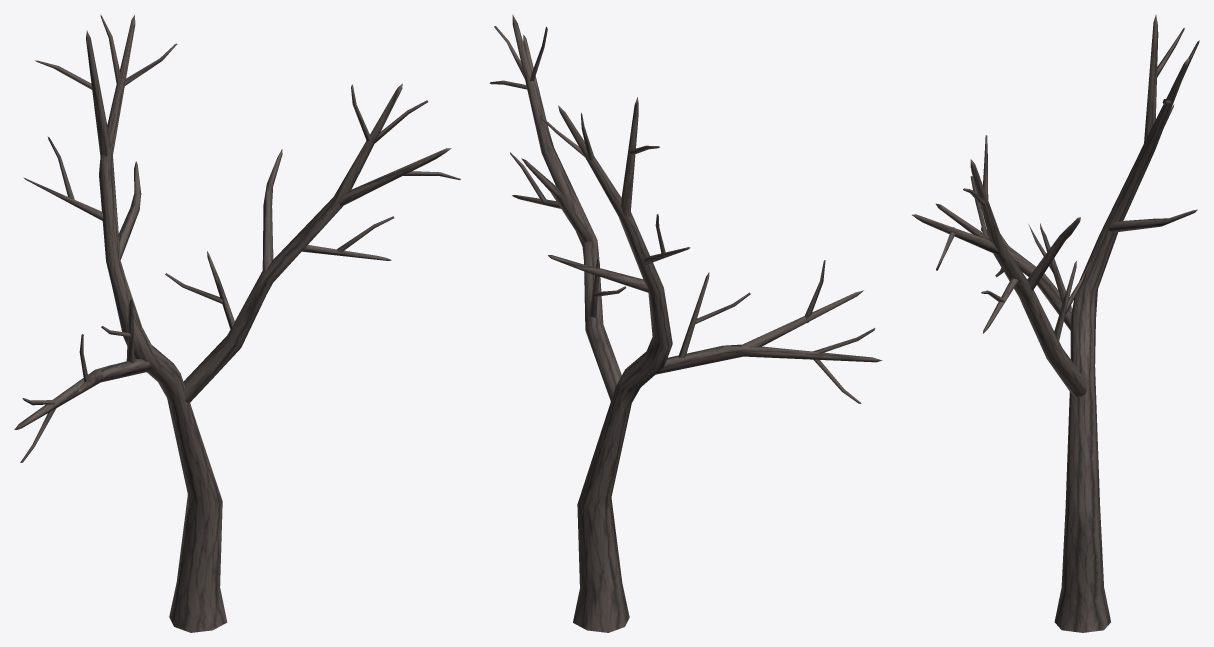
File: DeadTree_10.glb
3 renders of one model, left to right at view 1: azimuth 30°, elevation 25°; view 2: azimuth 150°, elevation 25°; view 3: azimuth 270°, elevation 25°, orthographic. The views are drawn at different scales.
Bounding box in the file's own units: 5.43 × 7.13 × 3.24.
1 material, 1 textured.
